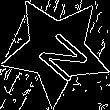N_NW: (25, 19, 87, 82)
